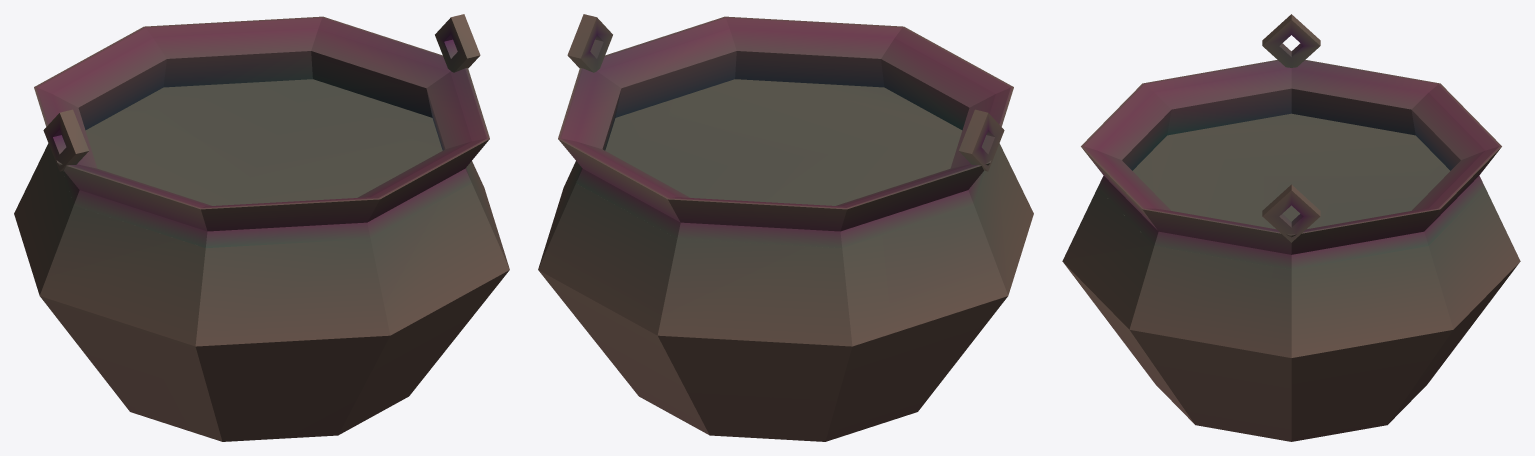
The picture shows the model from 3 angles, left to right: view 1: azimuth 30°, elevation 25°; view 2: azimuth 150°, elevation 25°; view 3: azimuth 270°, elevation 25°; orthographic projection. The views are drawn at different scales.
Visible parts, largest first — view 1: lower, rim_base, loop.001, loop; view 2: lower, rim_base, loop.001, loop; view 3: lower, rim_base, loop, loop.001.
Boxes of the visible parts, left/top/right/bottom form: lower: left=14, top=79, right=509, bottom=441; rim_base: left=34, top=16, right=489, bottom=248; loop.001: left=43, top=109, right=88, bottom=171; loop: left=435, top=14, right=480, bottom=72; lower: left=538, top=79, right=1033, bottom=441; rim_base: left=558, top=16, right=1013, bottom=248; loop.001: left=959, top=109, right=1004, bottom=171; loop: left=567, top=14, right=612, bottom=72; lower: left=1062, top=113, right=1520, bottom=441; rim_base: left=1081, top=60, right=1501, bottom=269; loop: left=1262, top=184, right=1320, bottom=242; loop.001: left=1262, top=14, right=1320, bottom=67.
Bounding box in the file's own units: 0.3 × 0.204 × 0.3.
